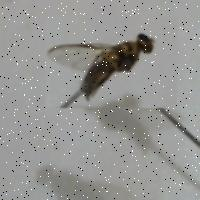Oriental-fruit-fly: (46, 18, 177, 108)
